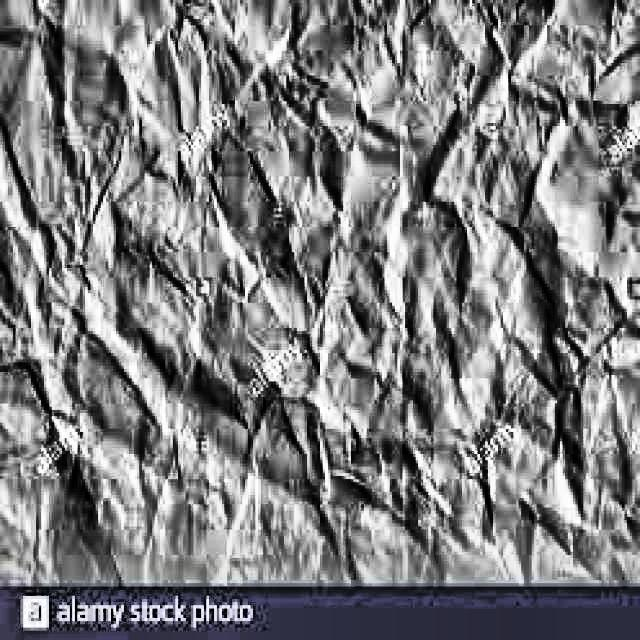Paper: (0, 0, 637, 580)
